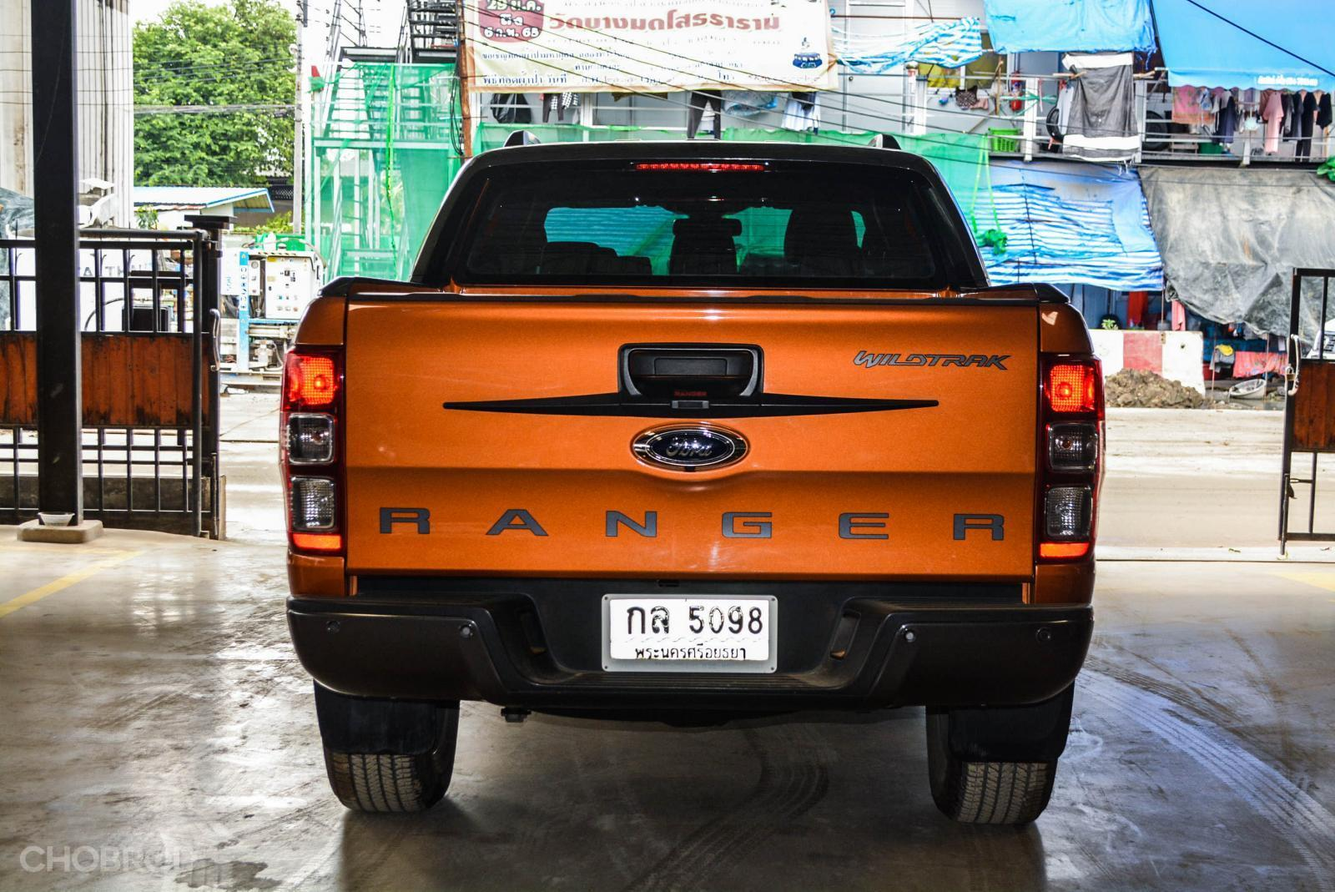license-plate: (599, 586, 781, 679)
